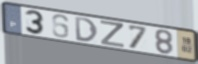3: (23, 9, 46, 36)
6: (51, 13, 71, 39)
7: (128, 24, 149, 51)
8: (154, 29, 175, 55)
D: (74, 16, 99, 44)
Z: (100, 20, 126, 50)
